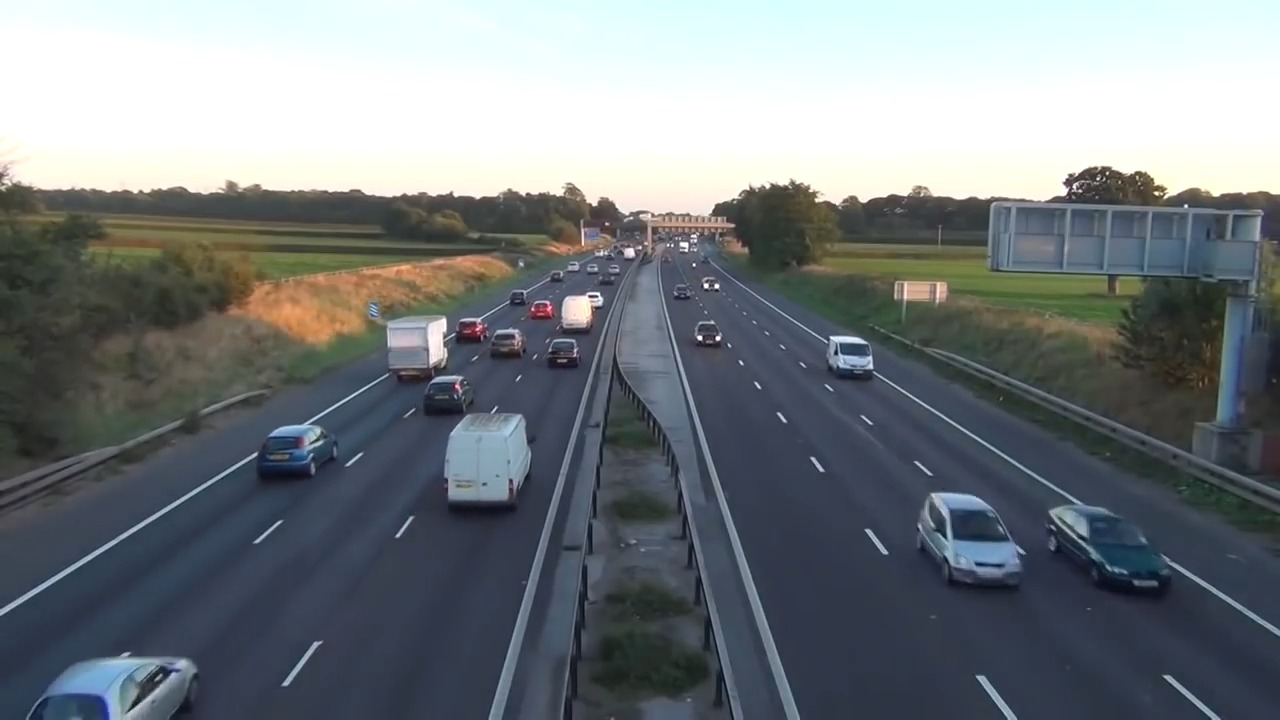truck: (382, 315, 453, 378)
